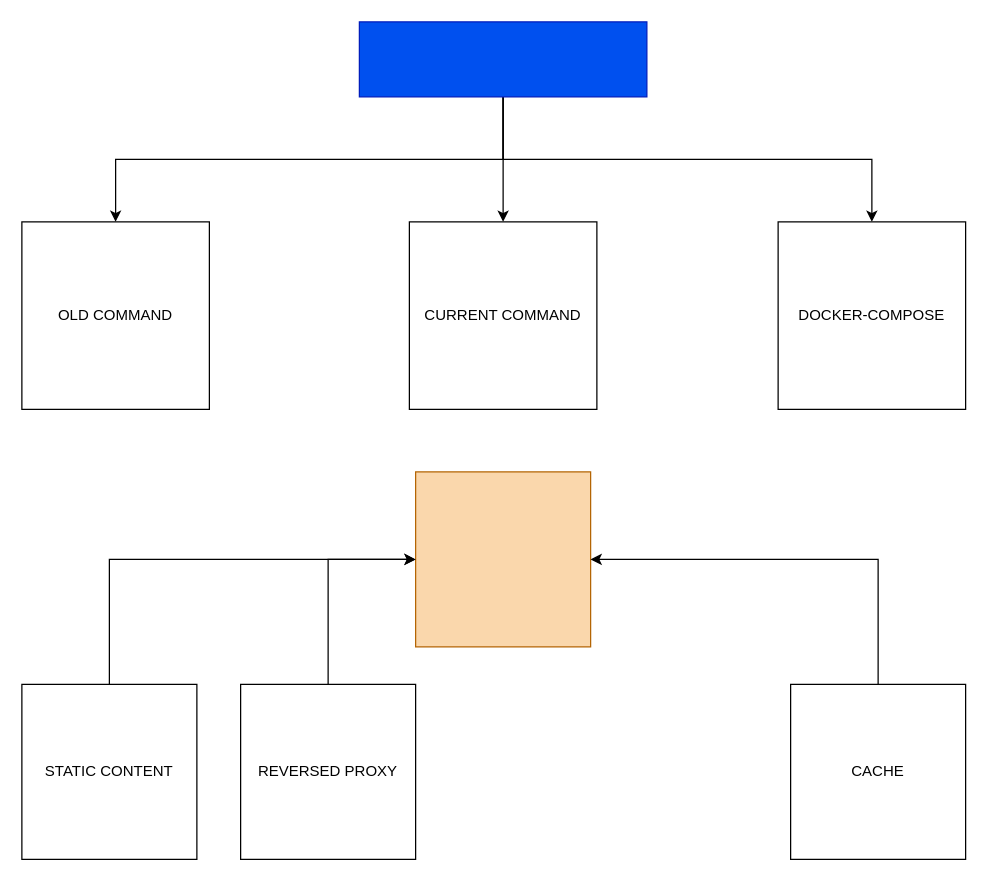
The diagram is 988 pixels wide and 881 high, and some of its shapes have lost their labels. Here are the shapes that lost their labels. From the top down, the box of each, then its label:
(358, 21, 647, 97): DOCKER COMMAND
(414, 471, 591, 647): NGINX
